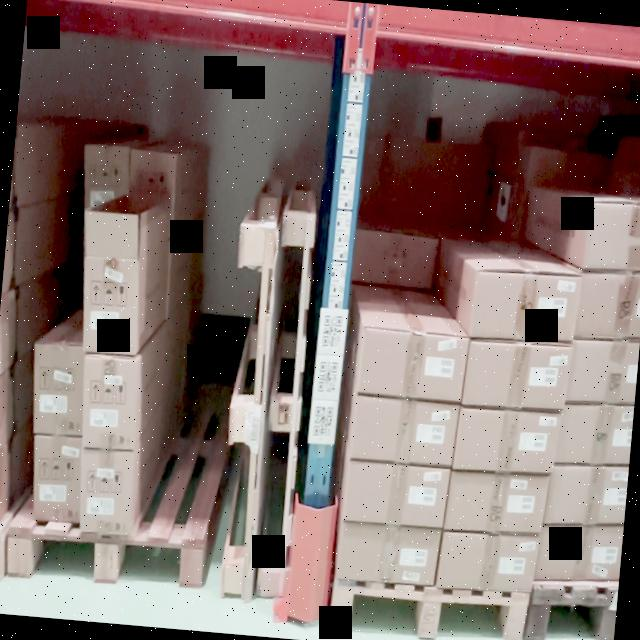box: (358, 329, 464, 402), (463, 339, 567, 412), (349, 397, 458, 466), (473, 271, 576, 338), (446, 468, 546, 536), (455, 407, 556, 473), (344, 463, 446, 528), (338, 524, 437, 584), (439, 531, 534, 593), (81, 258, 140, 352), (546, 463, 628, 530), (538, 522, 622, 583), (83, 358, 137, 449), (351, 233, 436, 286), (78, 454, 134, 532), (32, 349, 84, 433), (32, 438, 82, 518), (568, 343, 638, 400), (560, 409, 632, 462), (577, 276, 640, 333), (589, 204, 640, 267)
